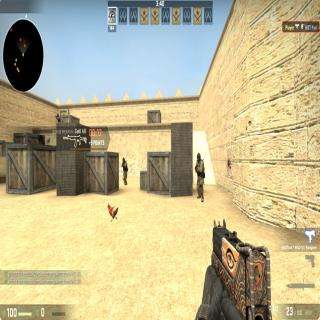CT-Body: (195, 150, 205, 202), (121, 156, 128, 185)
CT-Head: (197, 151, 201, 162), (122, 156, 126, 163)
